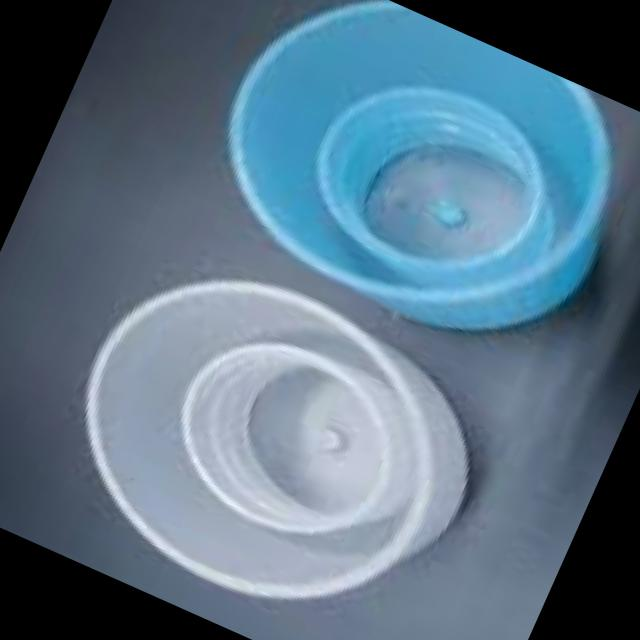Kardus: (28, 222, 515, 640), (175, 0, 640, 391)
